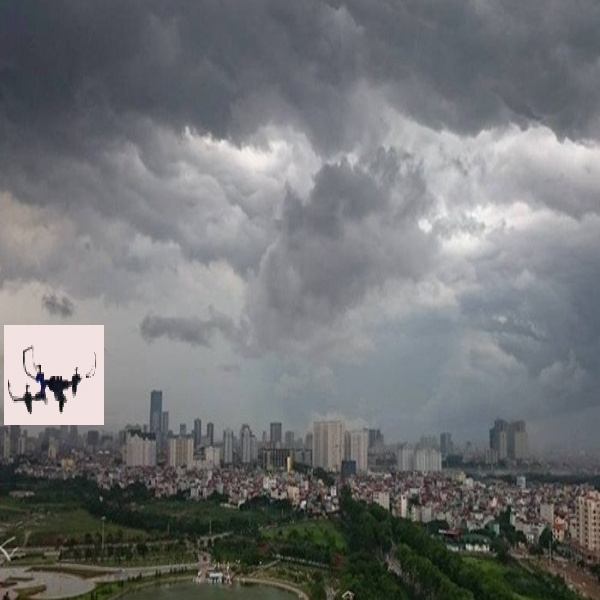drone: (5, 331, 103, 421)
